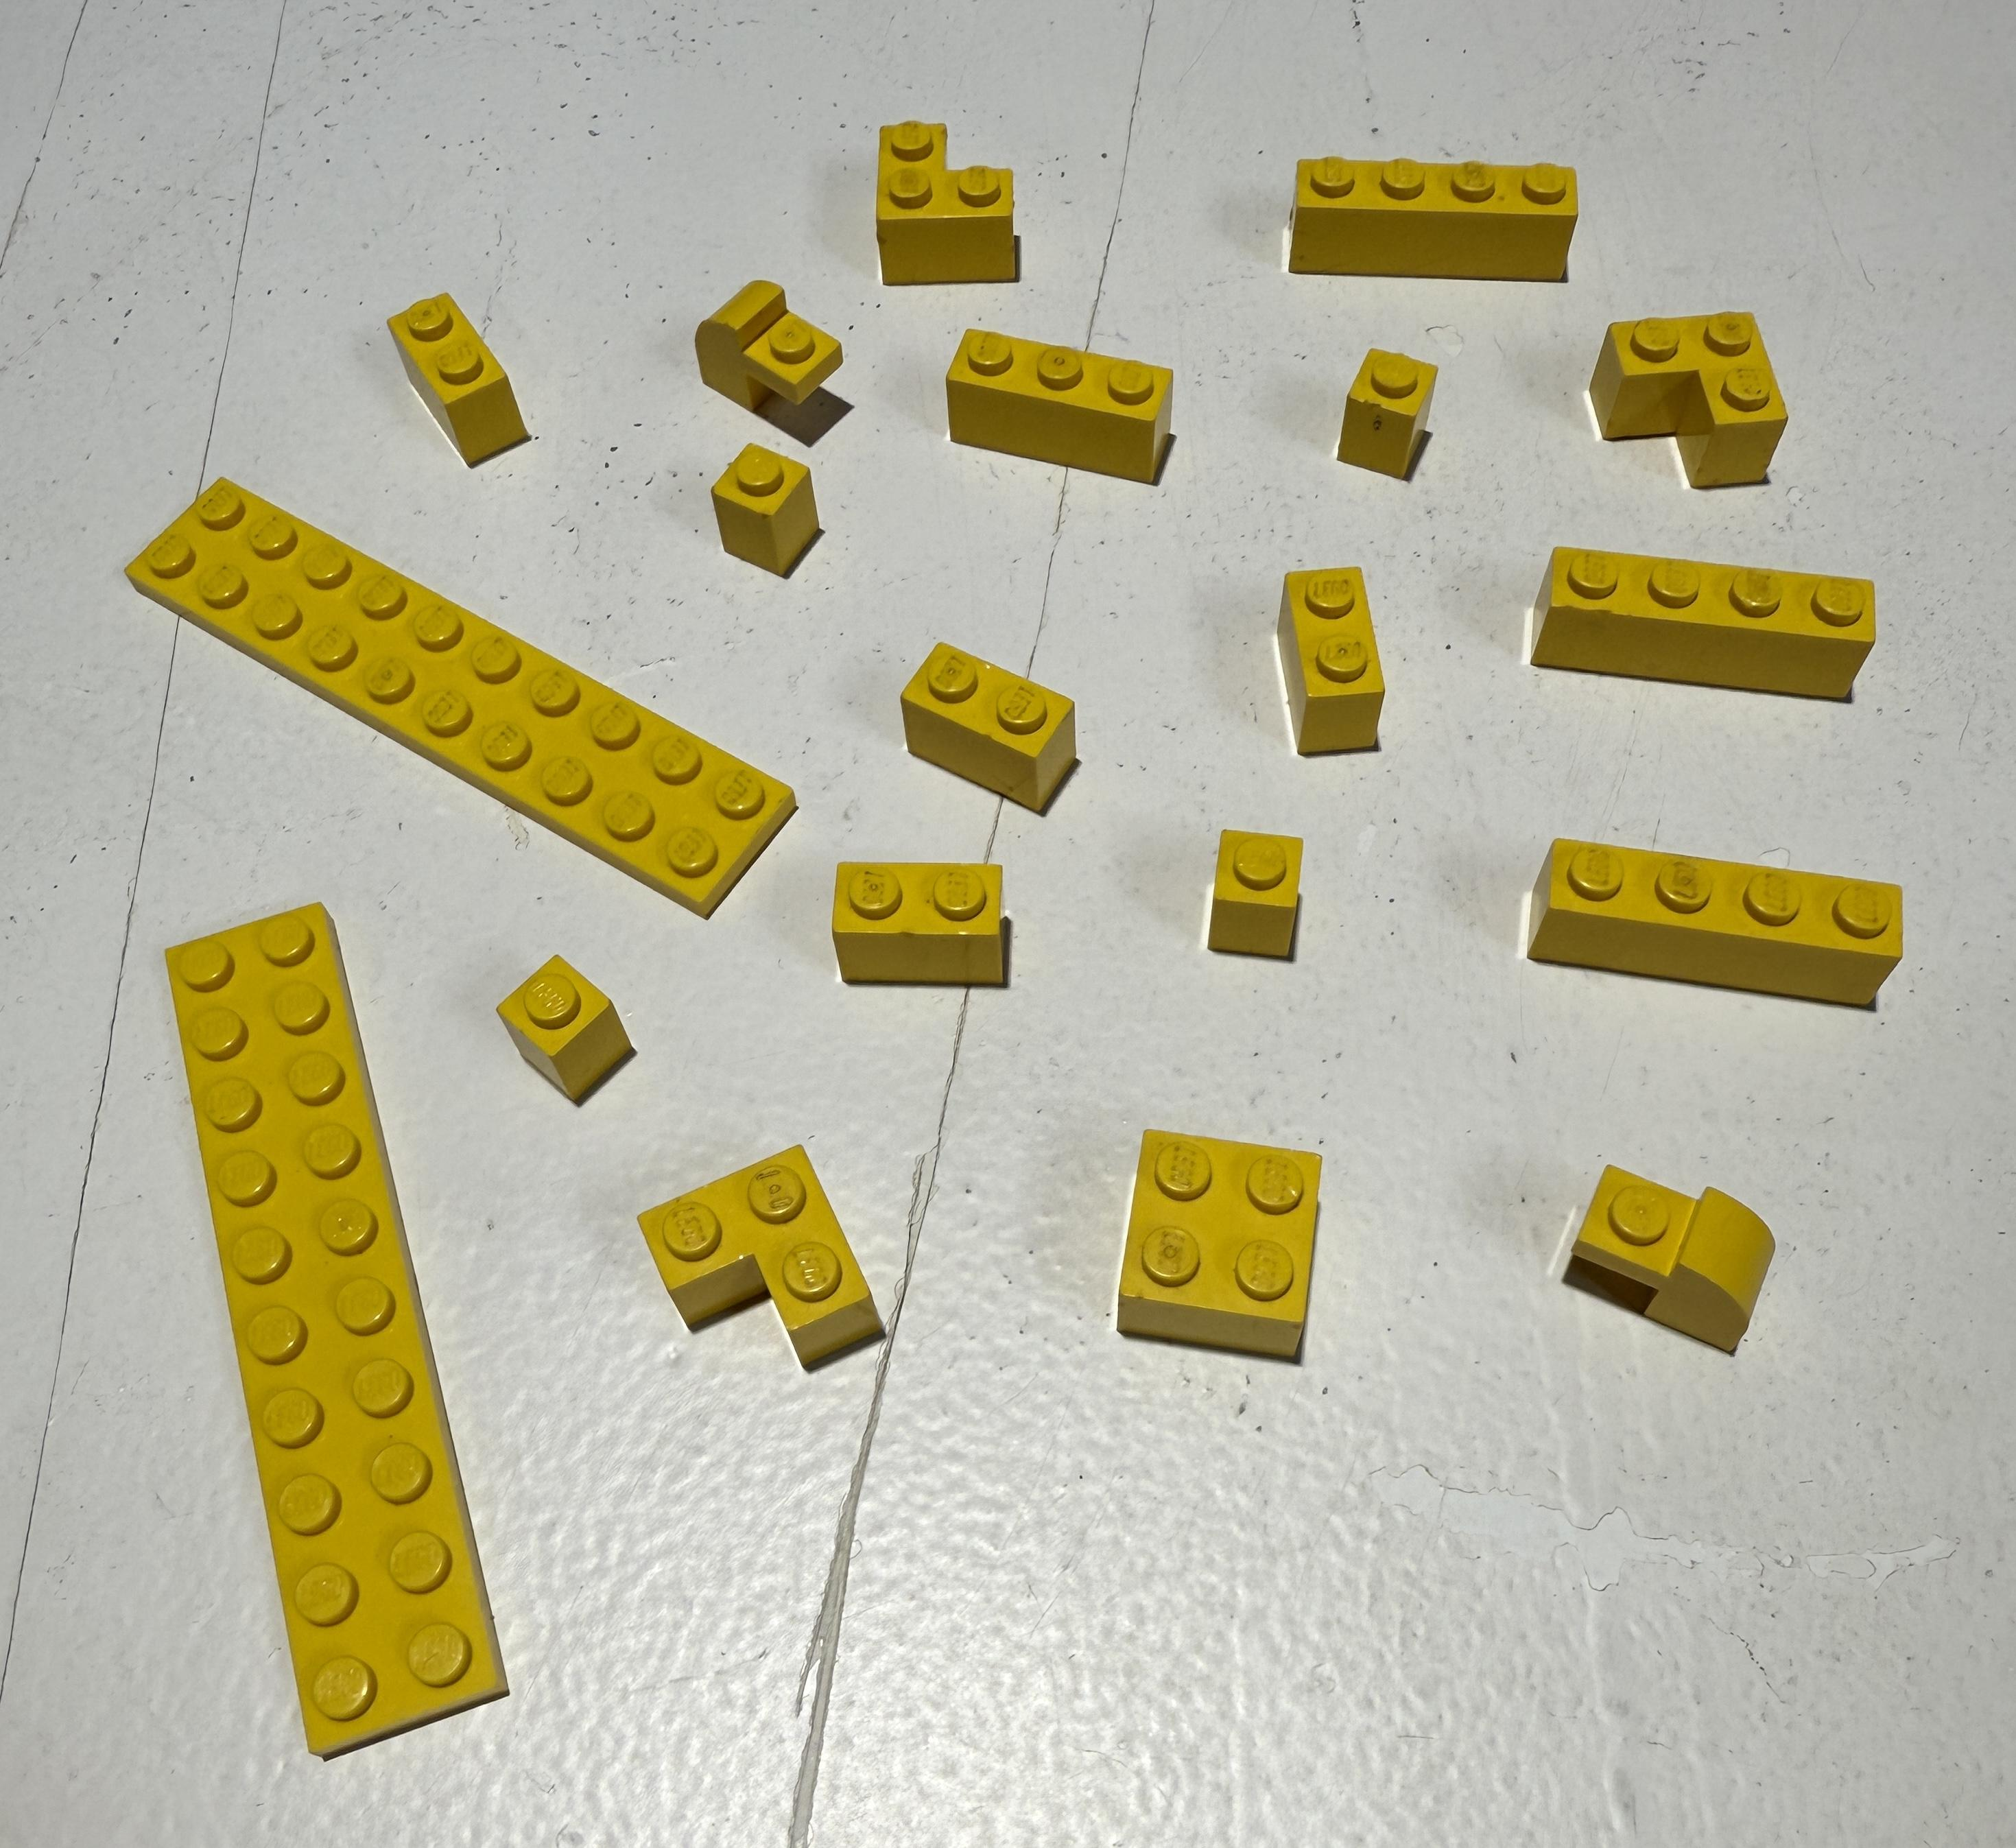brick_1x1: (453, 938, 676, 1140), (1317, 332, 1477, 522), (697, 422, 848, 615), (1178, 803, 1338, 973)
brick_1x2: (876, 618, 1103, 831), (797, 833, 1055, 1015), (1233, 541, 1408, 783), (376, 256, 537, 487)
brick_1x3: (922, 307, 1201, 506)
brick_1x4: (1491, 815, 1923, 1049), (1512, 522, 1904, 722), (1263, 128, 1595, 311)
brick_2x2: (1052, 1103, 1345, 1391)
